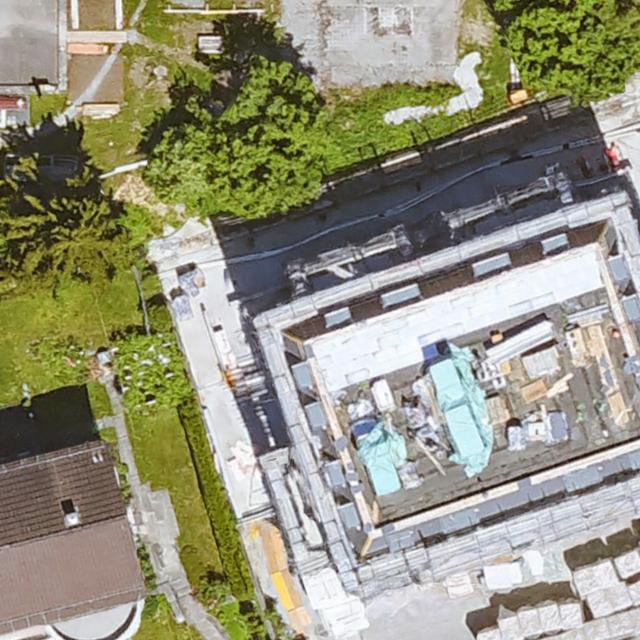tree: (517, 0, 640, 103), (200, 135, 318, 219), (32, 192, 129, 282), (227, 62, 332, 139), (151, 124, 229, 210), (0, 165, 47, 297)
